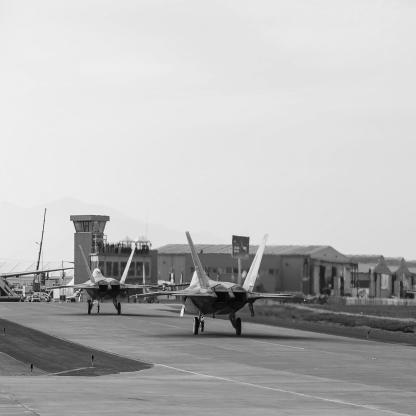F22: (130, 232, 312, 335), (43, 246, 169, 315)
